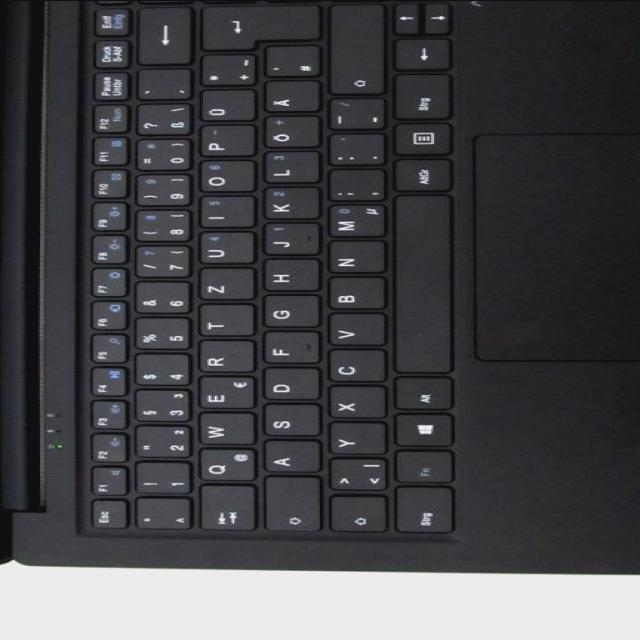0: (131, 140, 189, 172)
1: (129, 465, 187, 497)
2: (127, 427, 187, 461)
3: (127, 392, 187, 426)
4: (128, 356, 186, 388)
5: (127, 319, 187, 353)
6: (127, 283, 187, 317)
7: (129, 248, 187, 280)
8: (129, 212, 187, 244)
9: (131, 175, 189, 207)
a: (257, 442, 317, 476)
accent: (132, 71, 188, 103)
ae: (258, 83, 318, 115)
alt-left: (389, 379, 449, 413)
altgr-right: (387, 161, 447, 195)
b: (320, 279, 382, 313)
c: (322, 351, 382, 385)
caret: (129, 500, 187, 533)
comma: (322, 171, 382, 205)
d: (255, 370, 315, 404)
del: (132, 9, 190, 68)
e: (192, 378, 252, 412)
enter: (194, 8, 317, 53)
f: (255, 334, 315, 366)
g: (255, 297, 315, 331)
h: (255, 261, 315, 295)
hash: (258, 49, 318, 80)
i: (192, 198, 252, 230)
j: (257, 225, 317, 257)
k: (256, 188, 316, 222)
keyboard: (71, 0, 469, 544)
l: (258, 153, 318, 185)
less: (322, 461, 384, 493)
m: (322, 206, 382, 240)
minus: (323, 100, 383, 132)
n: (322, 242, 382, 276)
o: (192, 162, 252, 196)
oe: (258, 118, 318, 150)
p: (192, 126, 252, 160)
plus: (194, 57, 252, 89)
point: (322, 135, 382, 169)
q: (192, 450, 252, 484)
r: (191, 343, 251, 375)
s: (256, 406, 316, 440)
shift-left: (324, 498, 384, 536)
shift-lock: (257, 479, 319, 535)
shift-right: (321, 6, 381, 97)
space: (386, 198, 451, 376)
ss: (131, 106, 189, 138)
strg-left: (389, 489, 451, 539)
strg-right: (387, 75, 447, 123)
t: (191, 307, 251, 339)
tab: (192, 489, 252, 534)
u: (192, 233, 252, 267)
ue: (194, 92, 252, 124)
v: (320, 315, 382, 349)
w: (191, 415, 251, 447)
x: (322, 389, 382, 421)
y: (322, 424, 382, 458)
z: (197, 267, 257, 301)
